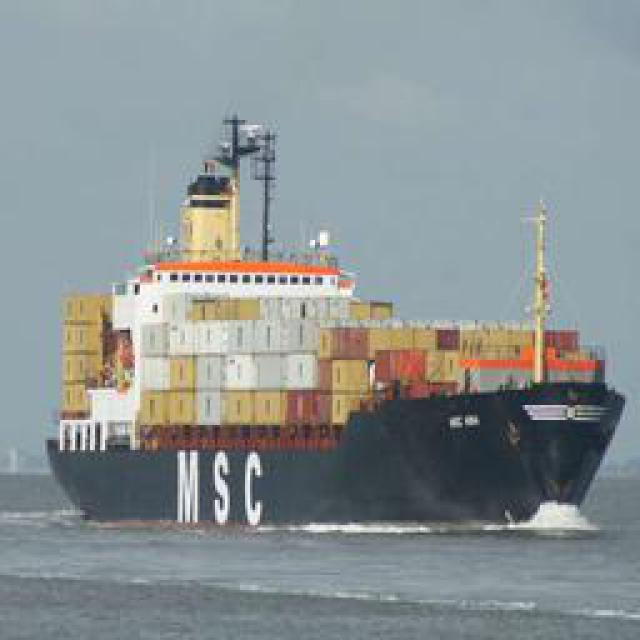Ship: (37, 80, 620, 523)
